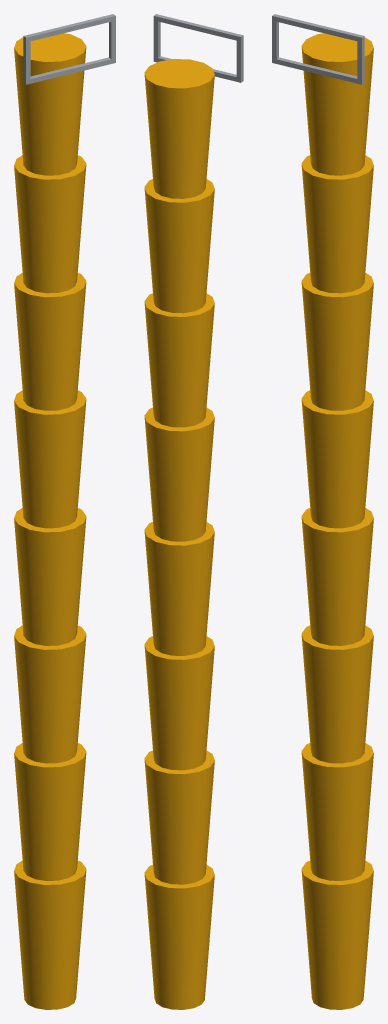
The model's file is plant.temporary.rubble_chute.glb.
3 renders of one model, left to right at view 1: azimuth 30°, elevation 25°; view 2: azimuth 150°, elevation 25°; view 3: azimuth 330°, elevation 25°, orthographic. The views are drawn at different scales.
Parts seen in each view (by area): view 1: main__plant_yellow, main__steel_galvanised; view 2: main__plant_yellow, main__steel_galvanised; view 3: main__plant_yellow, main__steel_galvanised.
Part boxes in pixels (left/top/right/bottom): main__plant_yellow: left=14, top=33, right=86, bottom=1009; main__steel_galvanised: left=23, top=14, right=115, bottom=84; main__plant_yellow: left=144, top=59, right=214, bottom=1009; main__steel_galvanised: left=153, top=14, right=243, bottom=82; main__plant_yellow: left=301, top=33, right=373, bottom=1009; main__steel_galvanised: left=272, top=14, right=364, bottom=84.
Bounding box in the file's own units: 0.8 × 8.4 × 0.593.
